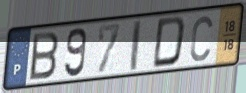7: (96, 22, 121, 76)
9: (64, 27, 89, 78)
B: (28, 30, 61, 83)
C: (189, 14, 215, 64)
D: (151, 14, 188, 70)
I: (130, 19, 143, 73)
